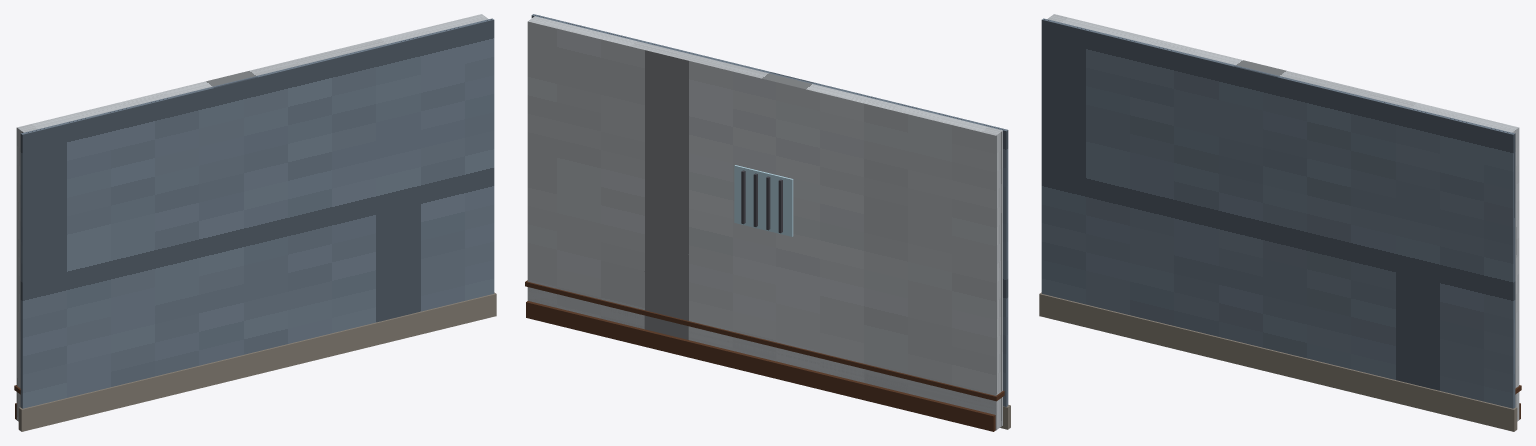
The model's file is jail_back.glb.
3 renders of one model, left to right at view 1: azimuth 30°, elevation 25°; view 2: azimuth 150°, elevation 25°; view 3: azimuth 330°, elevation 25°, orthographic.
Parts seen in each view (by area): view 1: Box3, Box4, Box1; view 2: Box1, Box2, Box10, Box3, Box11, Box9; view 3: Box3, Box4, Box1.
Boxes of the visible parts, <box> form: Box3: <box>20,18,494,408</box>; Box4: <box>18,292,496,431</box>; Box1: <box>16,14,488,421</box>; Box1: <box>527,16,1002,430</box>; Box2: <box>526,301,995,431</box>; Box10: <box>528,288,1002,429</box>; Box3: <box>531,14,1008,406</box>; Box11: <box>525,280,1004,401</box>; Box9: <box>734,165,793,236</box>; Box3: <box>1041,18,1515,408</box>; Box4: <box>1039,292,1517,431</box>; Box1: <box>1047,14,1519,421</box>.
Bounding box in the file's own units: 5.77 × 3.44 × 0.265.
6 materials, 2 textured.
